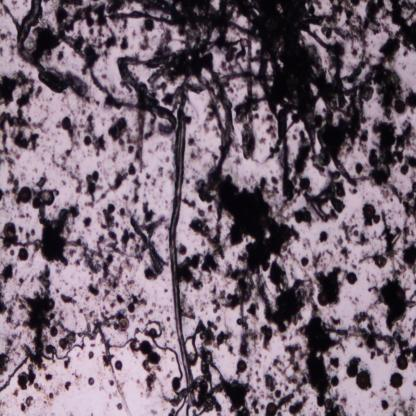Background material: (145, 0, 376, 227), (195, 154, 296, 309), (30, 176, 76, 272), (21, 263, 59, 370), (95, 53, 158, 115), (378, 182, 416, 274), (72, 291, 140, 342), (188, 313, 236, 385), (370, 116, 416, 189), (298, 303, 334, 396), (261, 275, 315, 335), (126, 202, 164, 285), (0, 106, 45, 170), (38, 63, 98, 107), (367, 272, 410, 330), (370, 62, 408, 116), (378, 12, 416, 60), (368, 330, 416, 364), (54, 120, 84, 174), (97, 336, 123, 398), (178, 240, 206, 296), (334, 310, 375, 348), (86, 13, 120, 58), (64, 29, 98, 73), (74, 233, 108, 277), (98, 208, 131, 252), (0, 66, 38, 104), (55, 0, 97, 34), (292, 132, 314, 196), (128, 108, 149, 174), (316, 268, 350, 306), (192, 218, 226, 256), (3, 226, 43, 257), (221, 378, 252, 416), (0, 328, 20, 384), (0, 281, 22, 328), (100, 252, 128, 288), (107, 113, 130, 151), (137, 351, 159, 390), (236, 327, 261, 359), (142, 116, 173, 141), (83, 171, 105, 205), (388, 390, 416, 416), (94, 0, 124, 24), (170, 378, 189, 414), (105, 166, 127, 196), (310, 246, 334, 272), (260, 110, 277, 146), (326, 386, 346, 416), (24, 361, 42, 394), (284, 343, 305, 371), (57, 282, 78, 309), (68, 166, 87, 195), (134, 24, 152, 53), (85, 312, 102, 340), (130, 174, 145, 203), (212, 282, 223, 318), (346, 355, 362, 378), (182, 297, 197, 321), (398, 159, 416, 179), (277, 391, 294, 412), (260, 324, 274, 349), (125, 7, 148, 22), (138, 303, 157, 321), (117, 80, 134, 100), (18, 393, 34, 414), (283, 247, 300, 266), (184, 134, 201, 153), (157, 381, 171, 404), (187, 148, 203, 168), (294, 395, 310, 415), (82, 116, 97, 137), (93, 136, 106, 159), (295, 372, 309, 393), (249, 392, 261, 416), (6, 173, 18, 197), (127, 290, 139, 314), (41, 385, 54, 407), (2, 266, 16, 286), (359, 128, 370, 153), (0, 0, 13, 21), (264, 374, 278, 392), (129, 338, 143, 356), (372, 253, 388, 268), (339, 246, 353, 263), (57, 315, 67, 338), (355, 230, 370, 245), (48, 152, 62, 168), (275, 356, 285, 378), (8, 42, 18, 63), (282, 372, 298, 385), (124, 0, 152, 7), (342, 221, 350, 245), (53, 50, 66, 64), (99, 307, 111, 322), (39, 172, 49, 190), (72, 369, 82, 387), (0, 186, 8, 208), (408, 90, 416, 112), (357, 252, 373, 263), (182, 195, 193, 211), (200, 122, 212, 136), (162, 324, 169, 348), (88, 284, 100, 298), (101, 287, 112, 302), (155, 142, 168, 154), (166, 169, 177, 183), (210, 148, 220, 163), (0, 30, 12, 42), (107, 78, 116, 94), (23, 226, 35, 238), (117, 289, 125, 307), (246, 366, 254, 384), (409, 320, 416, 340), (122, 36, 132, 50), (363, 216, 373, 230), (52, 386, 63, 398), (82, 214, 92, 227), (126, 164, 136, 177), (396, 321, 405, 335), (156, 163, 165, 177), (318, 230, 327, 244), (330, 357, 340, 369), (19, 207, 29, 219), (146, 172, 156, 184), (140, 296, 149, 309), (316, 395, 325, 408), (370, 230, 382, 239), (302, 239, 311, 251), (289, 263, 295, 280), (265, 391, 275, 401), (330, 314, 340, 324), (380, 399, 389, 410), (46, 369, 53, 383), (184, 176, 192, 188), (228, 344, 235, 357), (36, 85, 43, 98), (301, 257, 310, 267), (348, 295, 358, 304), (1, 400, 10, 410), (351, 224, 359, 235), (61, 381, 72, 389), (369, 389, 378, 398), (18, 276, 26, 286), (12, 388, 20, 398), (214, 129, 220, 141), (10, 0, 18, 9), (373, 216, 381, 225), (64, 359, 71, 369), (410, 289, 416, 300), (350, 262, 358, 270), (380, 386, 389, 393), (118, 209, 128, 215), (121, 19, 126, 31), (336, 236, 342, 246), (166, 370, 172, 380), (0, 46, 5, 58), (208, 205, 216, 212), (111, 295, 115, 309), (162, 260, 169, 268), (76, 331, 84, 338), (199, 210, 208, 216), (138, 380, 144, 389), (254, 358, 262, 364), (151, 410, 159, 416), (260, 402, 266, 410), (102, 73, 107, 82), (280, 336, 289, 341), (255, 376, 262, 382), (272, 370, 278, 377), (22, 0, 28, 7), (164, 304, 169, 312), (170, 330, 175, 338), (283, 384, 289, 390), (216, 317, 222, 323), (137, 392, 143, 398), (255, 370, 260, 377), (412, 278, 416, 286), (166, 154, 170, 162), (412, 379, 416, 387), (156, 364, 160, 372), (10, 251, 16, 256), (30, 277, 36, 282), (354, 411, 360, 416), (90, 343, 96, 348), (312, 412, 319, 416), (334, 243, 338, 250), (166, 316, 170, 323), (277, 411, 282, 416), (164, 287, 168, 293), (268, 366, 272, 371), (408, 316, 412, 321), (76, 352, 80, 357), (256, 385, 260, 390), (90, 411, 93, 416), (172, 357, 175, 361), (260, 354, 262, 358)
Cellulose filter fibre: (13, 0, 54, 68)
Diatom: (356, 371, 372, 390), (389, 371, 403, 389), (2, 220, 16, 238), (362, 204, 377, 220), (18, 186, 32, 203), (265, 401, 277, 416), (394, 100, 406, 114), (317, 292, 329, 306), (368, 152, 379, 167), (118, 317, 130, 330), (346, 271, 357, 285), (141, 340, 151, 355), (143, 18, 155, 30), (397, 355, 407, 369), (18, 372, 28, 386), (18, 248, 28, 261), (46, 297, 55, 311), (236, 360, 246, 372), (62, 116, 71, 129), (330, 375, 340, 386), (59, 337, 68, 349), (66, 332, 76, 342), (83, 135, 93, 145), (367, 337, 376, 348), (199, 381, 208, 392), (179, 244, 187, 256), (50, 325, 58, 337), (325, 398, 333, 410), (114, 360, 123, 370), (107, 203, 116, 213), (356, 163, 364, 174), (149, 328, 157, 337), (87, 377, 95, 386), (289, 404, 296, 414), (46, 344, 52, 355), (275, 390, 281, 398), (89, 351, 94, 359), (48, 392, 53, 399), (412, 183, 416, 191), (118, 404, 122, 410)
Microfibre: (167, 101, 199, 410)
